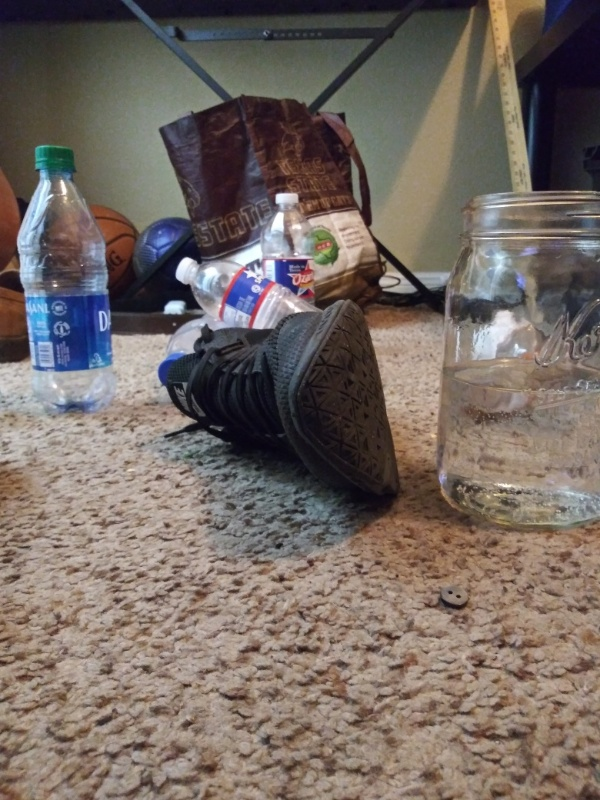bottle: (18, 143, 122, 417), (168, 252, 331, 328), (259, 190, 325, 308), (153, 313, 215, 386)
